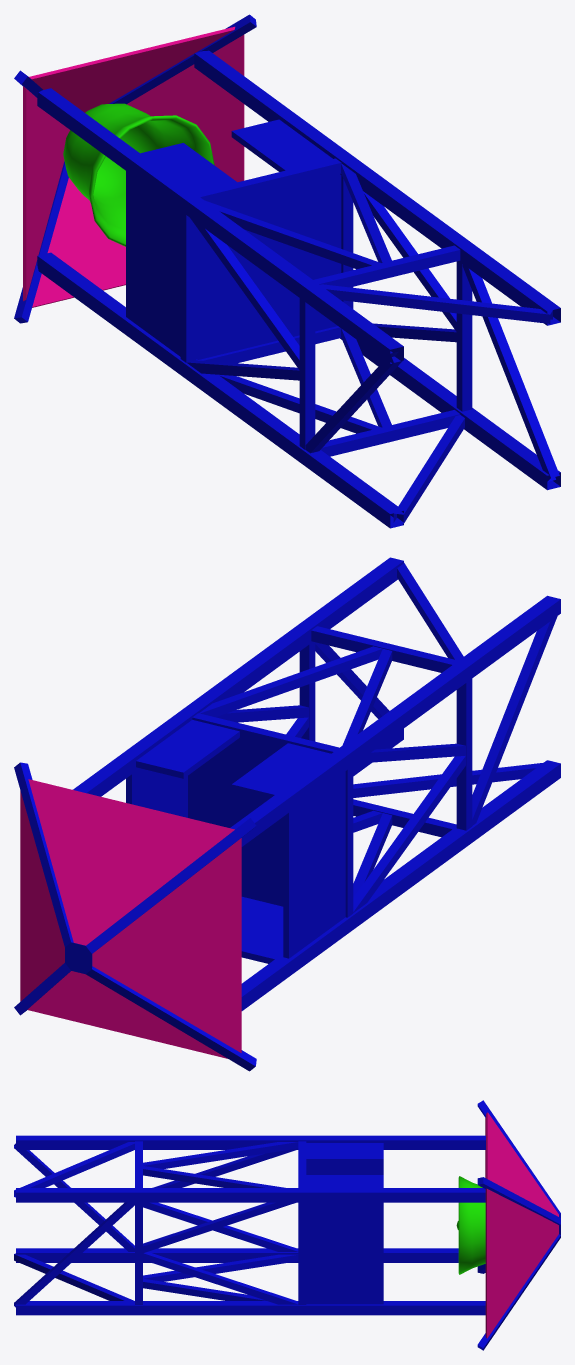
File: BellTower.fbx
The picture shows the model from 3 angles, top to bottom: view 1: azimuth 30°, elevation 25°; view 2: azimuth 150°, elevation 25°; view 3: azimuth 270°, elevation 25°; orthographic projection. The views are drawn at different scales.
Visible parts, largest first — view 1: Sphere; view 2: Sphere; view 3: Sphere.
Boxes of the visible parts, bbox=[...] form: Sphere: bbox=[14, 14, 560, 528]; Sphere: bbox=[14, 557, 560, 1071]; Sphere: bbox=[14, 1100, 560, 1350].
Bounding box in the file's own units: 924 × 924 × 2637.
